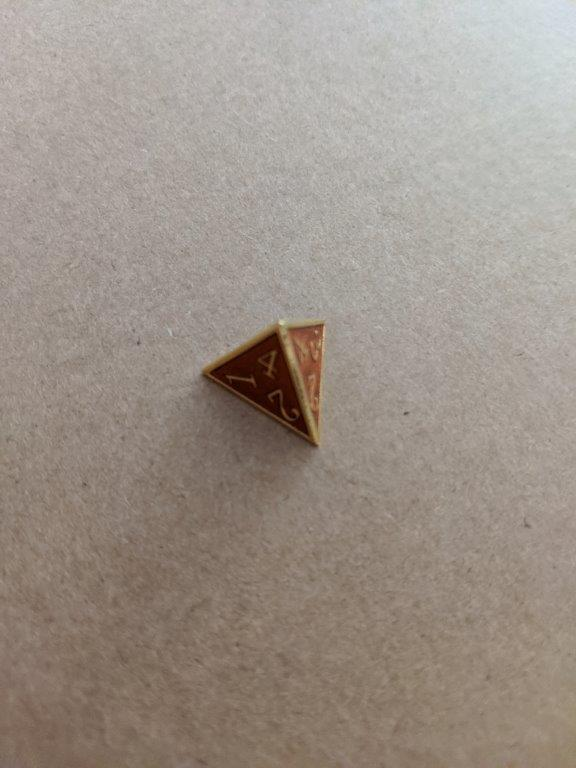d4-4: (198, 315, 324, 447)
